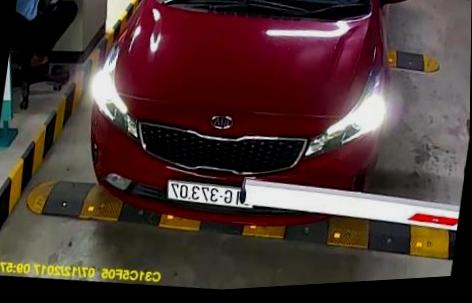License_Plate: (167, 178, 253, 220)
